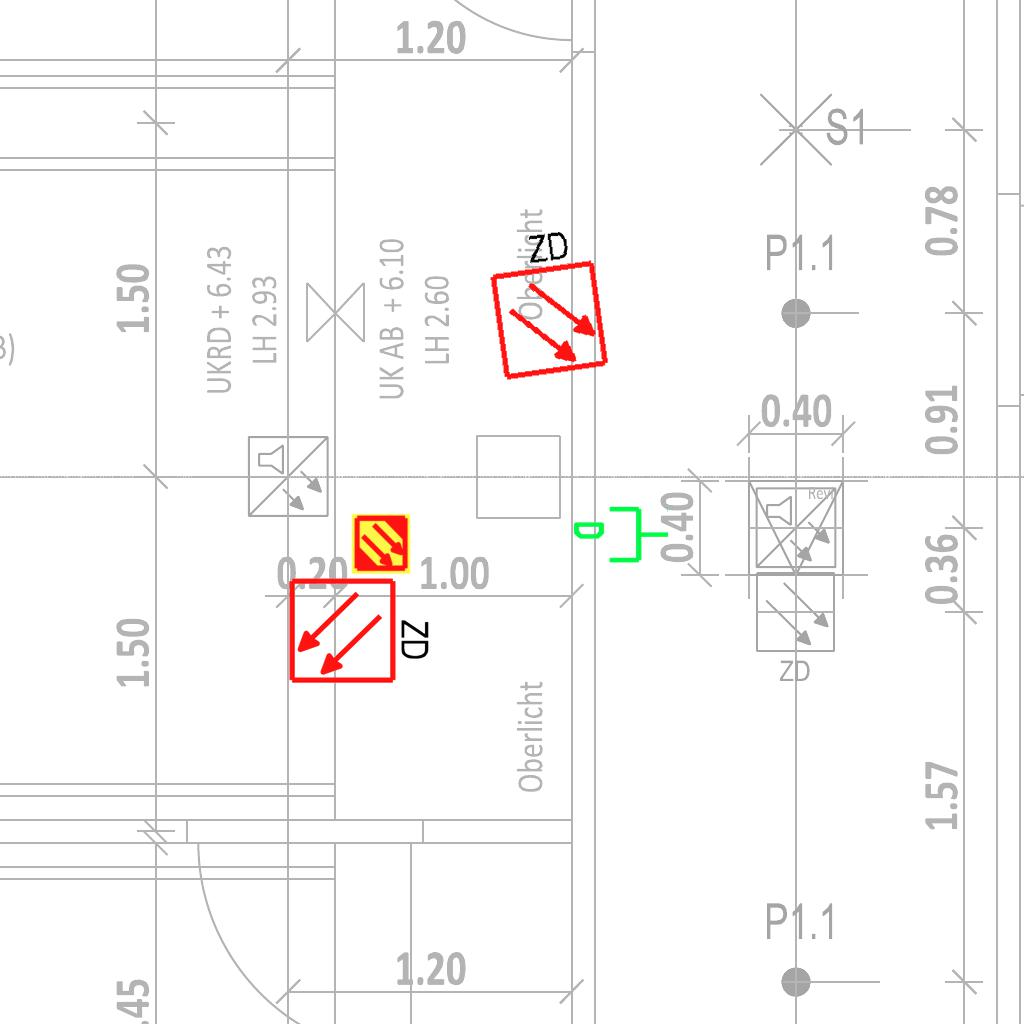ASR_Ansaugrauchmelder: (350, 513, 412, 575)
Datenanschluss_einfach: (571, 502, 671, 571)
ZD_Melder_in_Zwischendecke_mit_Revisionsoeffnung_mind_40_x_40_cm: (478, 219, 612, 384), (287, 572, 436, 686)
